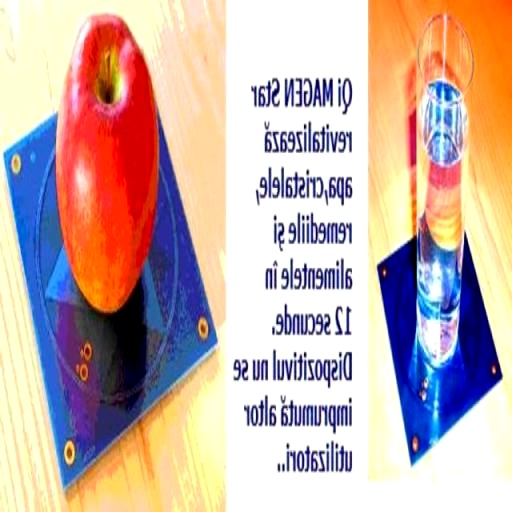fruit: (56, 15, 157, 312)
